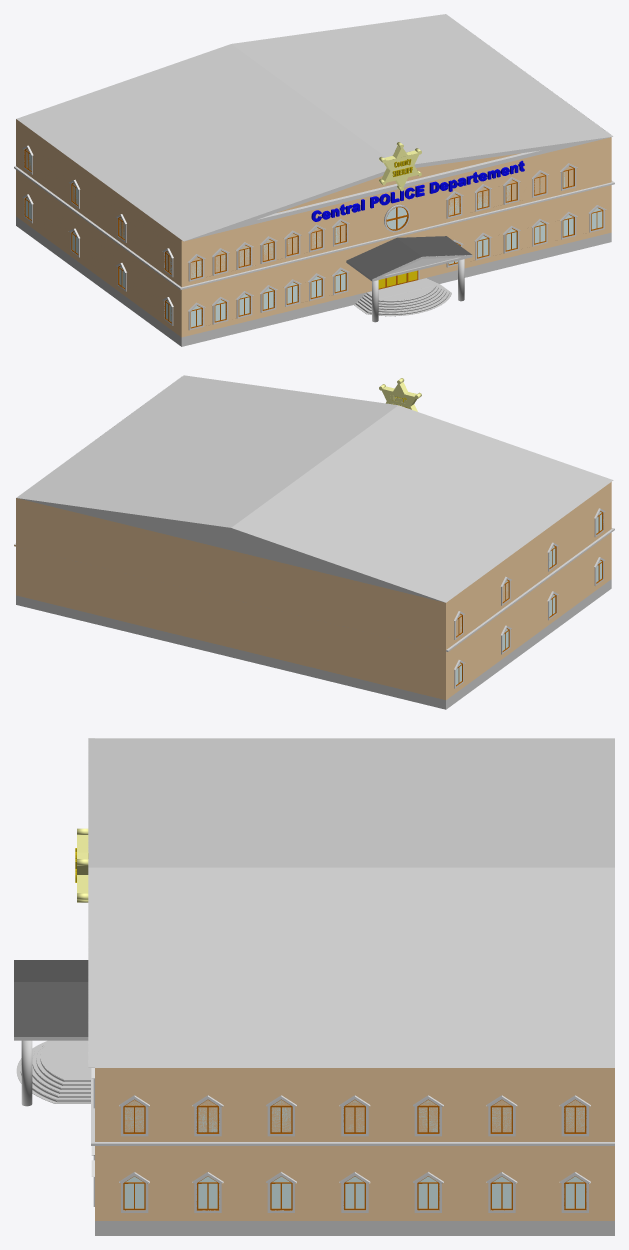
Rendered from policestation.fbx.
3 views of the same model, one above another, from view 1: azimuth 30°, elevation 25°; view 2: azimuth 150°, elevation 25°; view 3: azimuth 270°, elevation 25° (orthographic). The views are drawn at different scales.
Parts seen in each view (by area): view 1: group_27.040; view 2: group_27.040; view 3: group_27.040.
Part boxes in pixels (bbox=[...]): group_27.040: bbox=[14, 14, 614, 346]; group_27.040: bbox=[14, 375, 614, 709]; group_27.040: bbox=[14, 738, 614, 1235].
Size of the model in its own units: 2814 by 954 by 2146.
